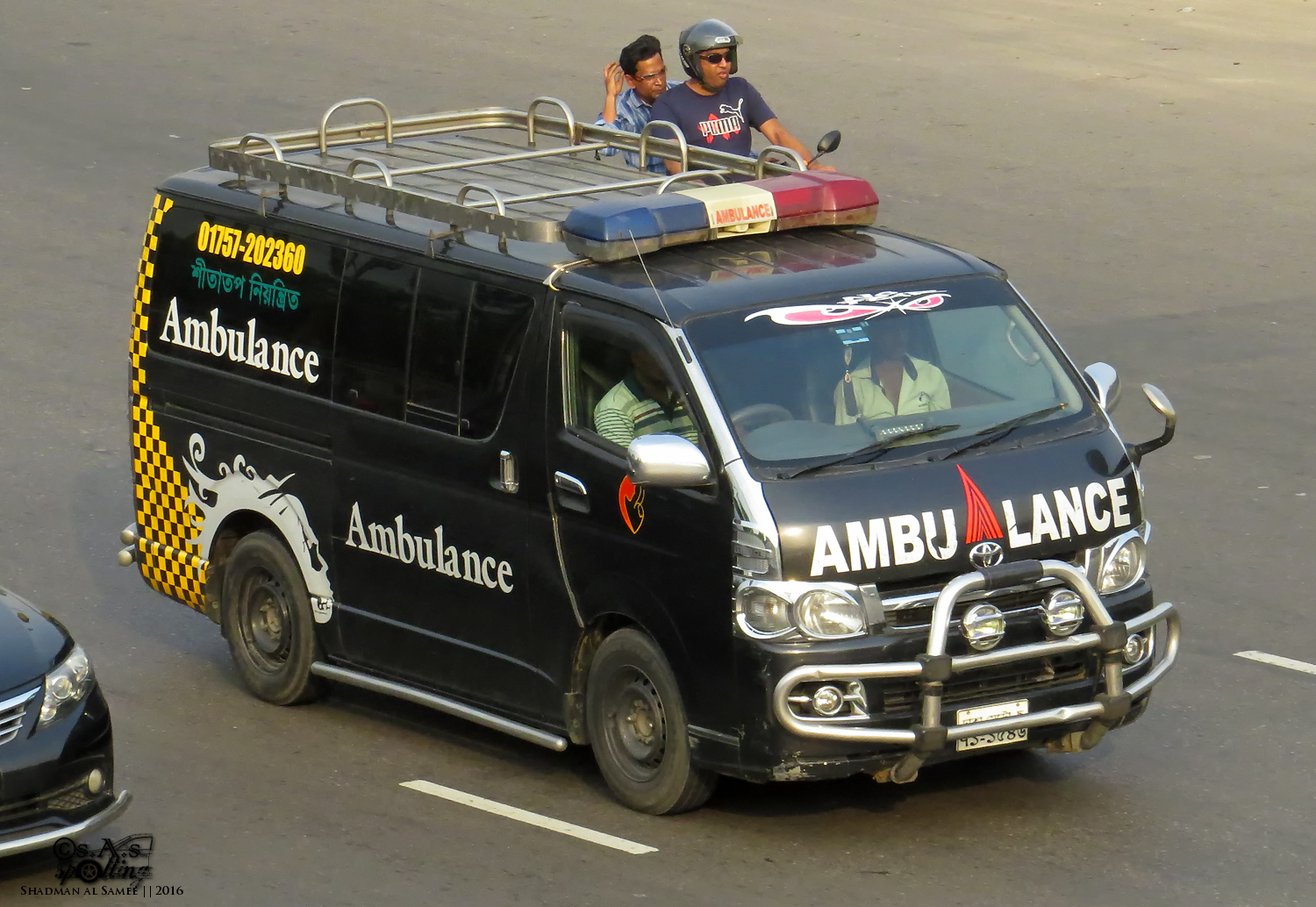Ambulance: (116, 91, 1205, 815)
